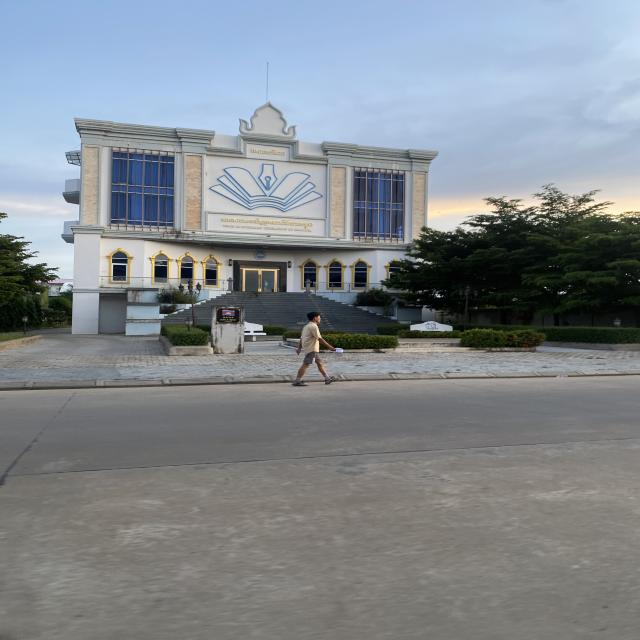Yolov11kh: (220, 216, 315, 230), (250, 147, 286, 157)
